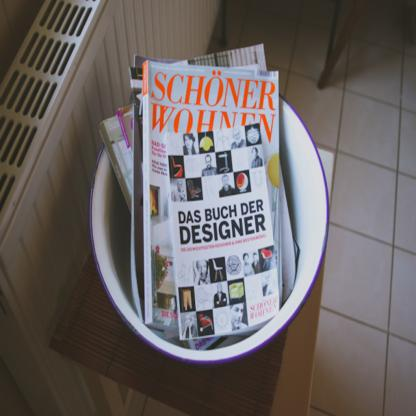book: (113, 52, 297, 348)
